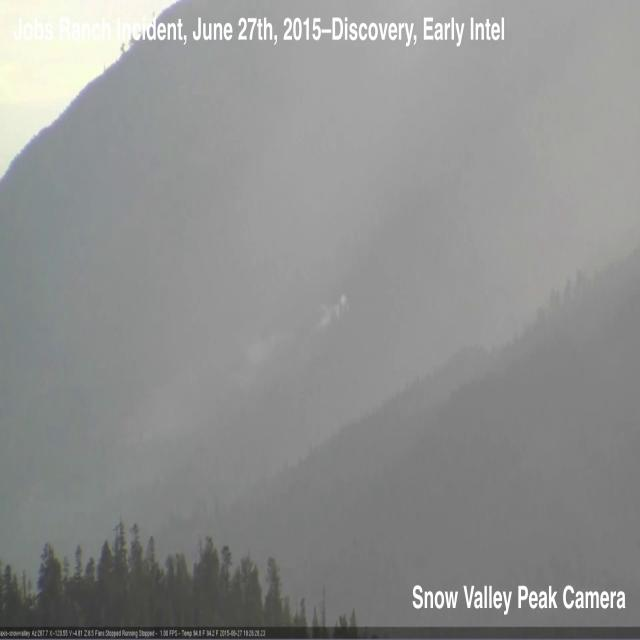smoke: (240, 287, 354, 378)
